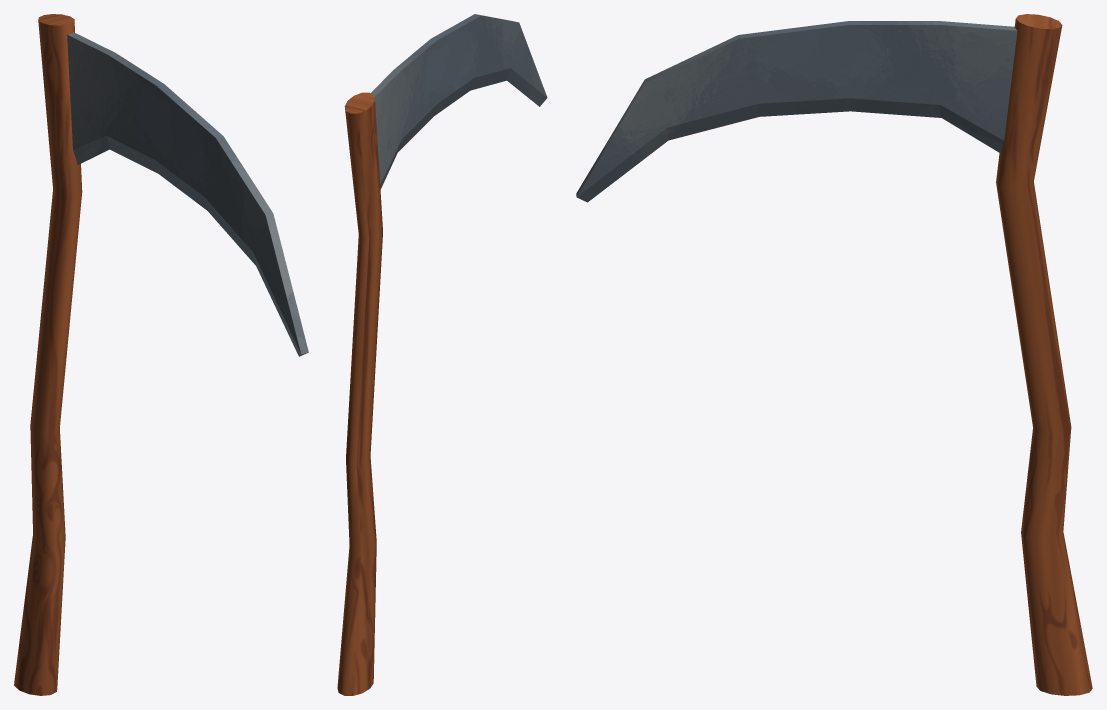
Rendered from SM_Sythe.fbx.
3 views of the same model, side by side, from view 1: azimuth 30°, elevation 25°; view 2: azimuth 150°, elevation 25°; view 3: azimuth 270°, elevation 25° (orthographic). The views are drawn at different scales.
Parts seen in each view (by area): view 1: SM_Sythe; view 2: SM_Sythe; view 3: SM_Sythe.
Boxes of the visible parts, <box> form: SM_Sythe: <box>14,14,308,695</box>; SM_Sythe: <box>337,14,547,695</box>; SM_Sythe: <box>576,14,1092,695</box>.
Size of the model in its own units: 9.51 by 139 by 96.54.
